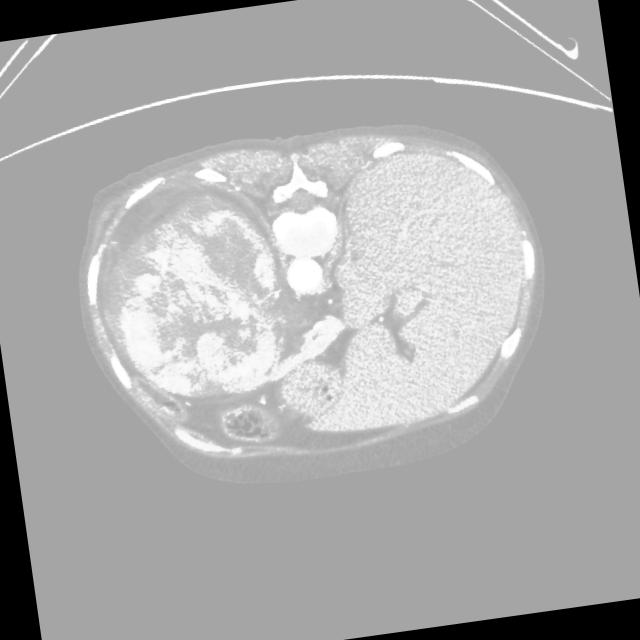TUMOR: (81, 183, 308, 438)
